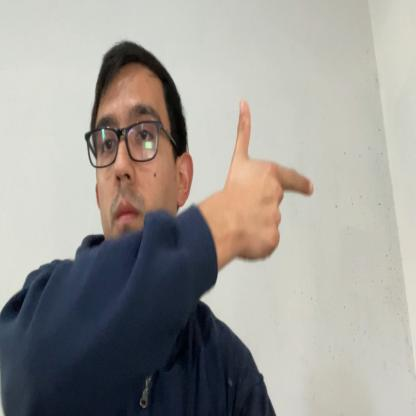G: (229, 100, 314, 262)
